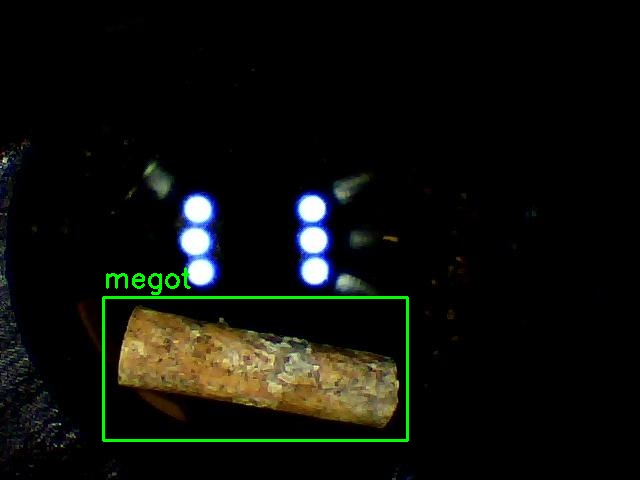megot: (103, 297, 407, 440)
